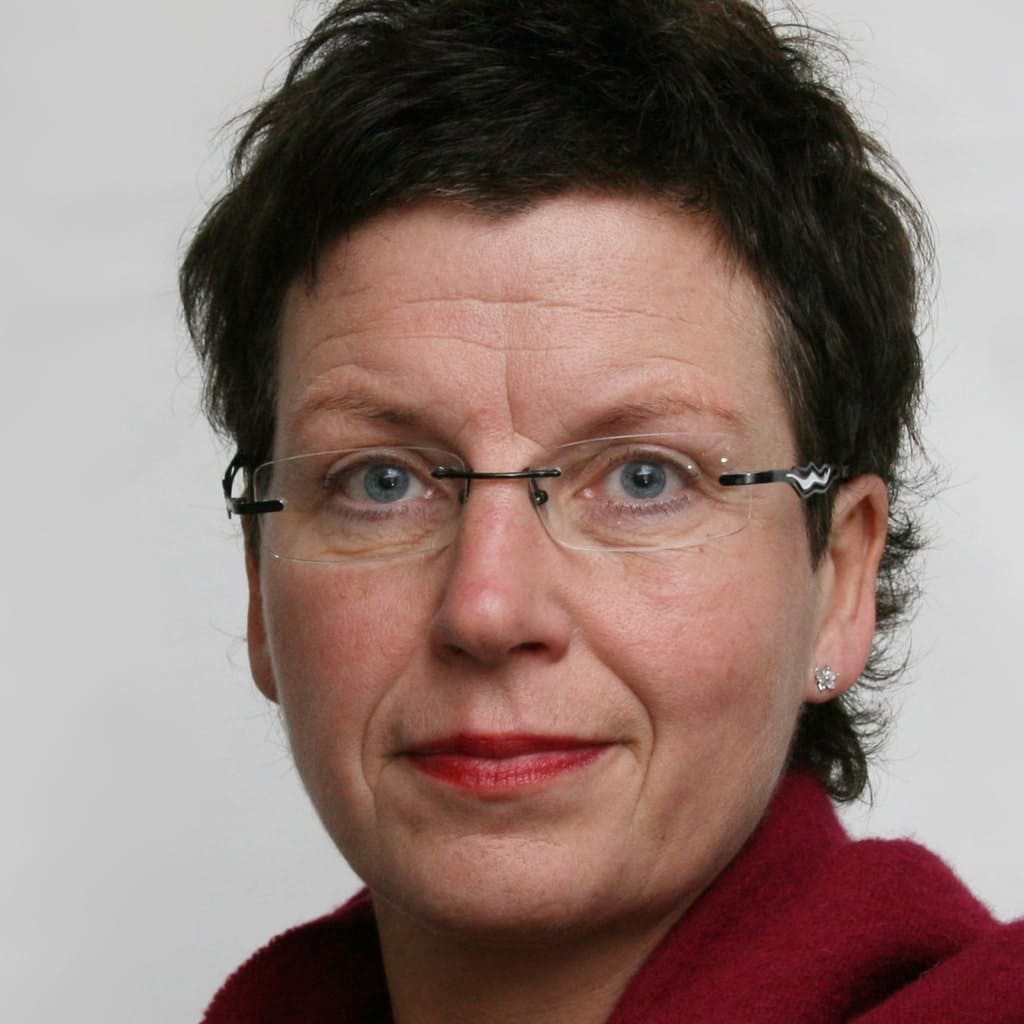without_mask: (260, 300, 778, 858)
